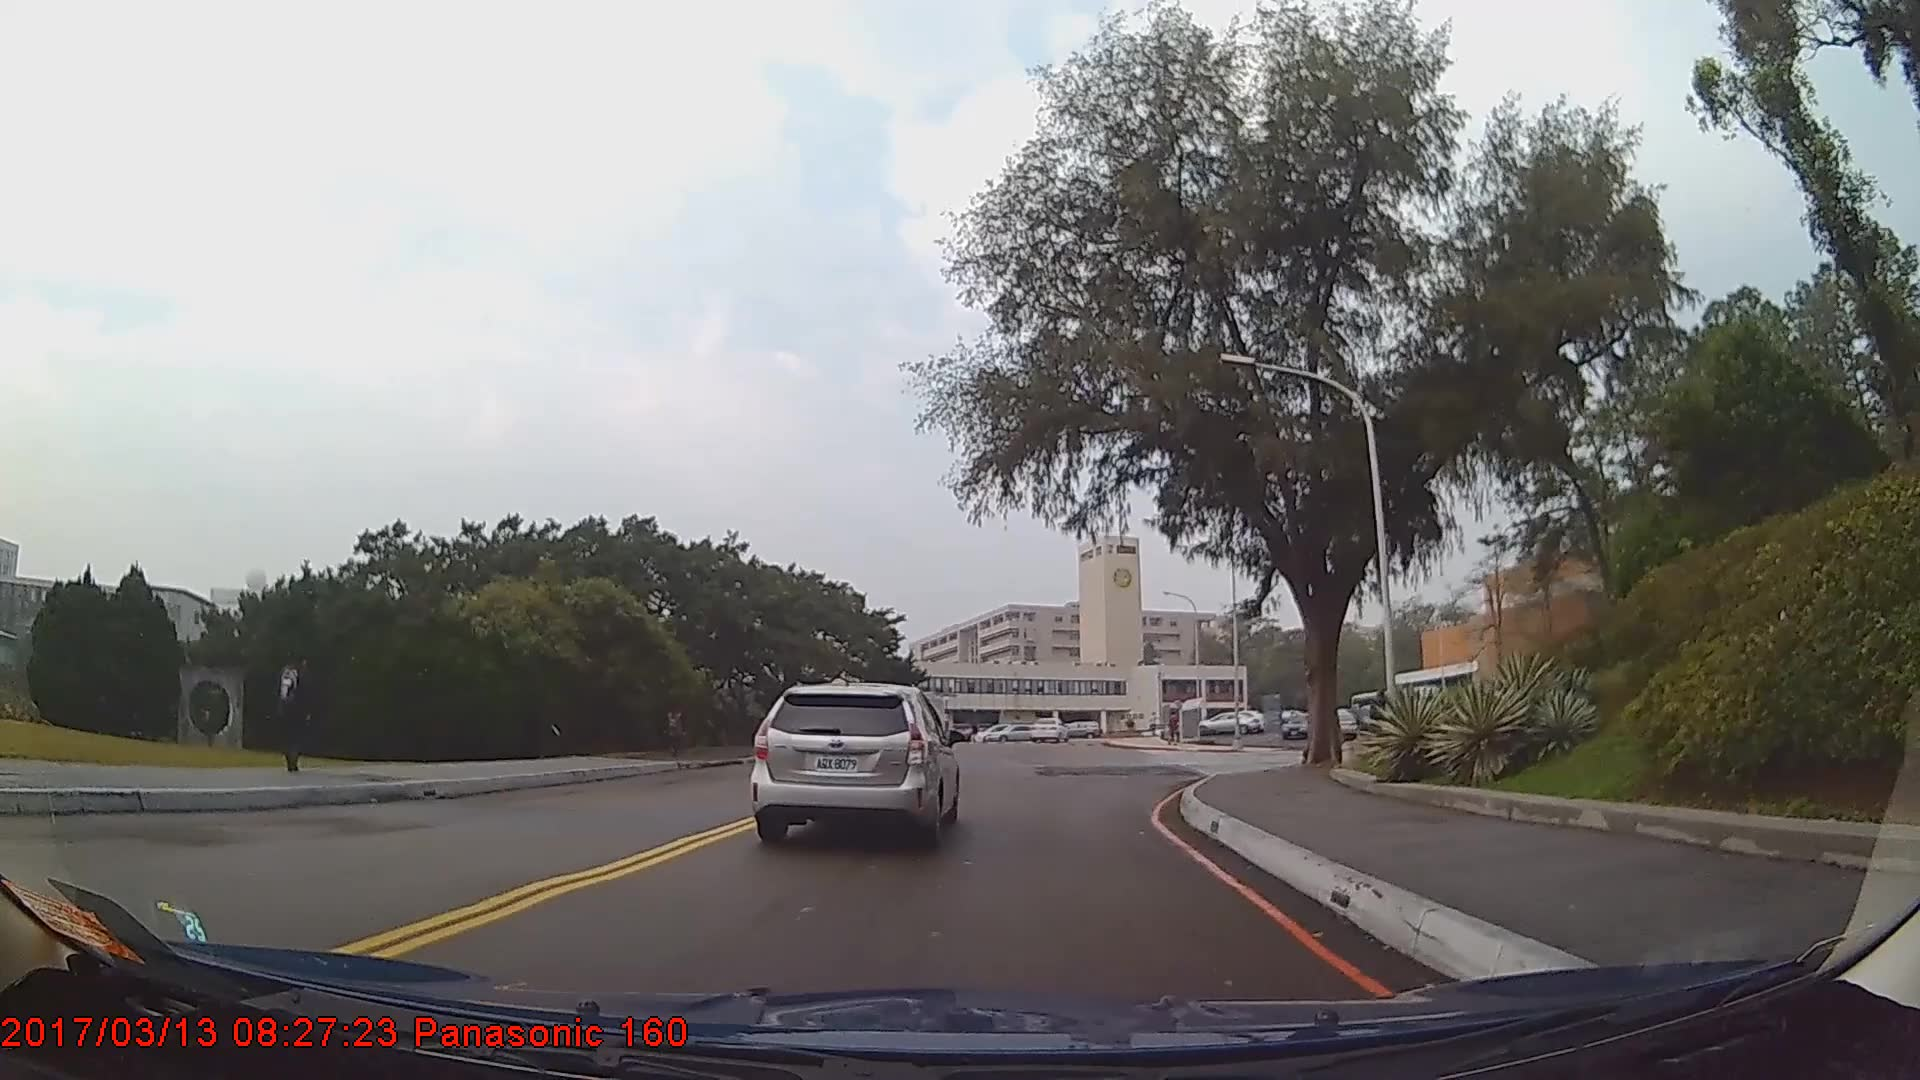pedestrian: (268, 642, 321, 778)
vehicle: (750, 680, 958, 846), (1198, 709, 1262, 736), (982, 717, 1039, 742), (1028, 714, 1071, 741), (1327, 710, 1355, 737), (1278, 713, 1307, 738)
